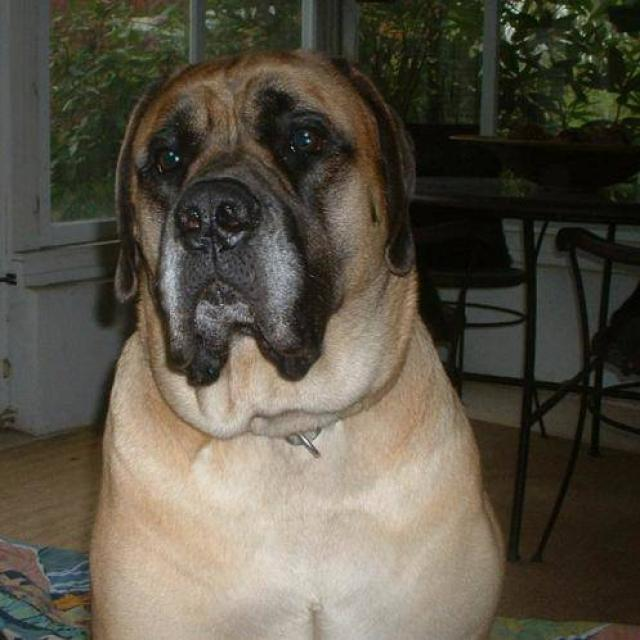dog: (86, 45, 508, 639)
